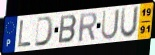B: (57, 14, 79, 44)
D: (33, 15, 55, 48)
L: (16, 19, 32, 49)
R: (77, 11, 98, 43)
U: (119, 5, 141, 40), (100, 8, 121, 41)
